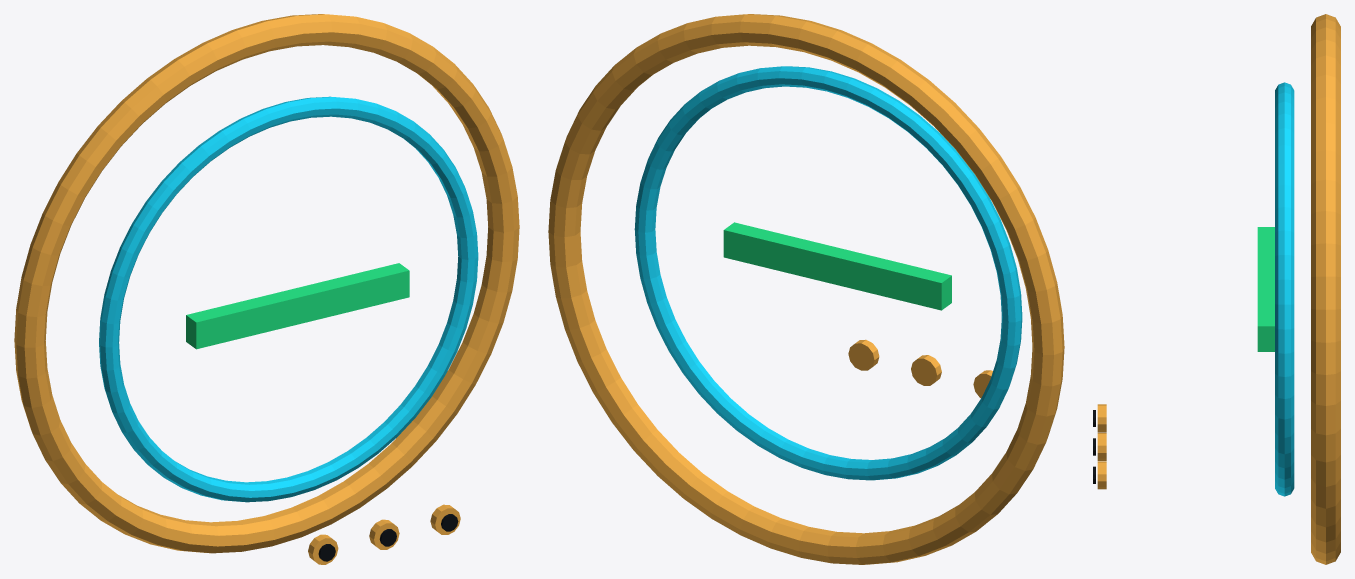
File: 15_L90_FinalQualificationBeacon.fbx
3 views of the same model, side by side, from view 1: azimuth 30°, elevation 25°; view 2: azimuth 150°, elevation 25°; view 3: azimuth 270°, elevation 25° (orthographic). The views are drawn at different scales.
Visible parts, largest first — view 1: L90_FinalQualificationBeacon, L90_FinalQualificationBeacon_Part_0001, L90_FinalQualificationBeacon_Part_0002; view 2: L90_FinalQualificationBeacon, L90_FinalQualificationBeacon_Part_0001, L90_FinalQualificationBeacon_Part_0002, L90_FinalQualificationBeacon_Part_0007, L90_FinalQualificationBeacon_Part_0005; view 3: L90_FinalQualificationBeacon, L90_FinalQualificationBeacon_Part_0001, L90_FinalQualificationBeacon_Part_0002.
Boxes of the visible parts, box(x1,y1,x2,y2) form: L90_FinalQualificationBeacon: box(14, 14, 519, 553); L90_FinalQualificationBeacon_Part_0001: box(99, 96, 478, 502); L90_FinalQualificationBeacon_Part_0002: box(186, 263, 409, 349); L90_FinalQualificationBeacon: box(548, 14, 1064, 564); L90_FinalQualificationBeacon_Part_0001: box(634, 66, 1022, 480); L90_FinalQualificationBeacon_Part_0002: box(723, 222, 951, 310); L90_FinalQualificationBeacon_Part_0007: box(848, 339, 879, 370); L90_FinalQualificationBeacon_Part_0005: box(911, 355, 941, 385); L90_FinalQualificationBeacon: box(1311, 14, 1340, 564); L90_FinalQualificationBeacon_Part_0001: box(1275, 82, 1294, 496); L90_FinalQualificationBeacon_Part_0002: box(1257, 227, 1274, 351).
Bounding box in the file's own units: 254 × 254 × 114.
